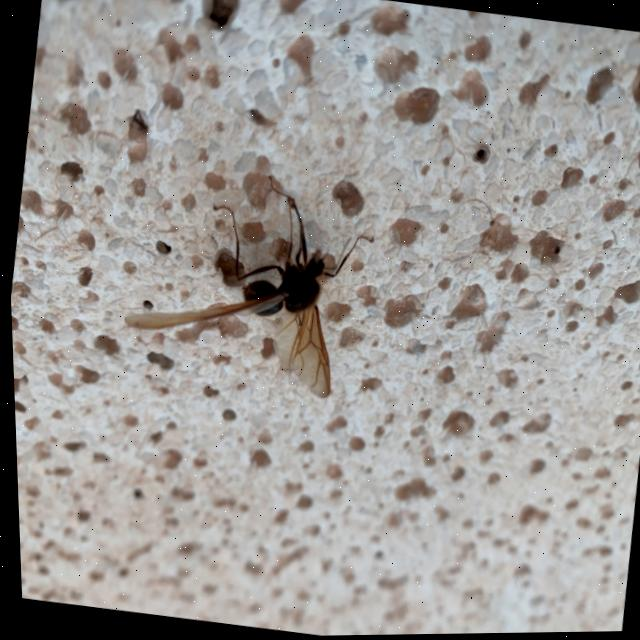Alive-Male-Alate: (109, 156, 385, 406)
